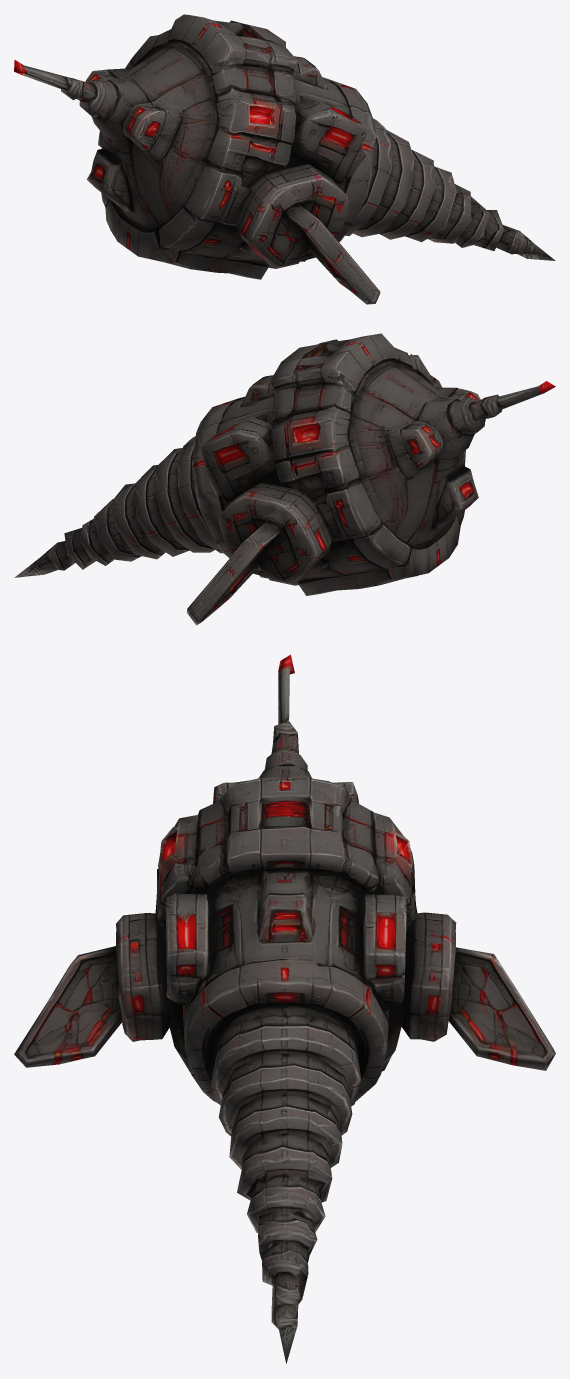
File: drill.glb
The picture shows the model from 3 angles, top to bottom: view 1: azimuth 30°, elevation 25°; view 2: azimuth 150°, elevation 25°; view 3: azimuth 270°, elevation 25°; orthographic projection. The views are drawn at different scales.
Parts seen in each view (by area): view 1: tripo_node_2e49b63e-bd77-49f5-8588-daa55448d817; view 2: tripo_node_2e49b63e-bd77-49f5-8588-daa55448d817; view 3: tripo_node_2e49b63e-bd77-49f5-8588-daa55448d817.
Boxes of the visible parts, <box> form: tripo_node_2e49b63e-bd77-49f5-8588-daa55448d817: <box>14,14,555,304</box>; tripo_node_2e49b63e-bd77-49f5-8588-daa55448d817: <box>14,333,555,625</box>; tripo_node_2e49b63e-bd77-49f5-8588-daa55448d817: <box>14,654,555,1363</box>.
Bounding box in the file's own units: 0.9845 × 0.5734 × 0.7114.
1 material, 1 textured.
